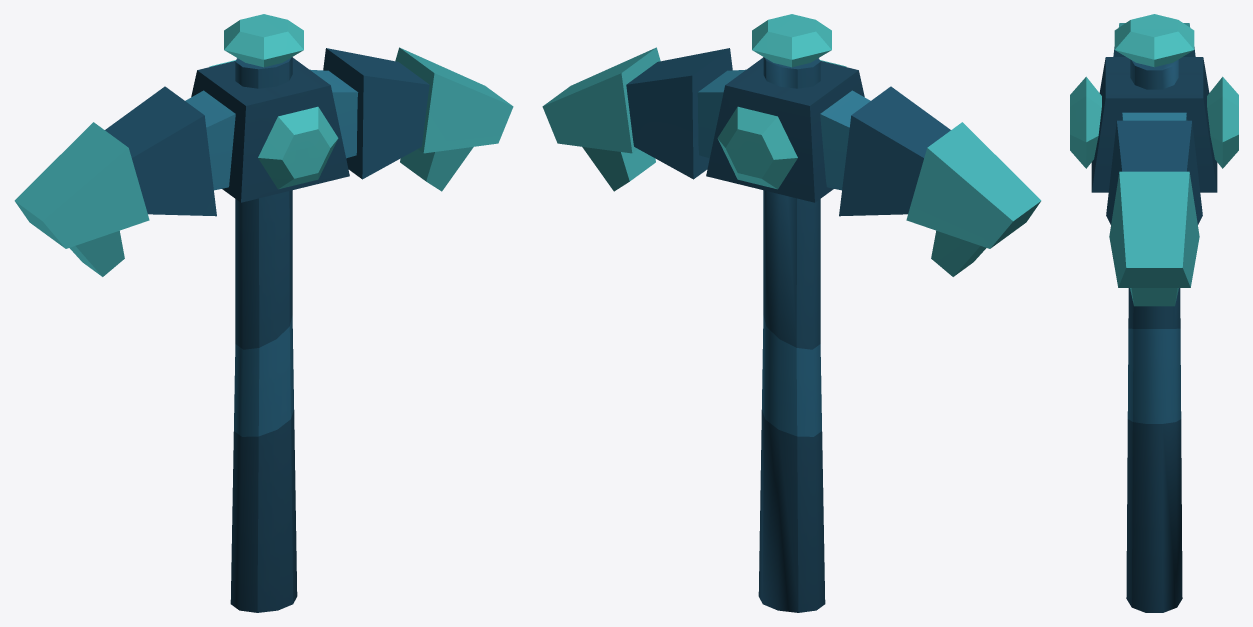
Rendered from 09_pickaxe_Diamond.fbx.
3 renders of one model, left to right at view 1: azimuth 30°, elevation 25°; view 2: azimuth 150°, elevation 25°; view 3: azimuth 270°, elevation 25°, orthographic.
Visible parts, largest first — view 1: 09_pickaxe_Diamond; view 2: 09_pickaxe_Diamond; view 3: 09_pickaxe_Diamond.
Boxes of the visible parts, box(x1,y1,x2,y2) form: 09_pickaxe_Diamond: box(14, 14, 513, 612); 09_pickaxe_Diamond: box(542, 14, 1041, 612); 09_pickaxe_Diamond: box(1070, 14, 1238, 612).
Size of the model in its own units: 102 by 118 by 31.65.
